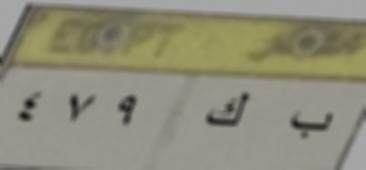4: (13, 90, 46, 129)
7: (64, 89, 99, 130)
9: (110, 86, 140, 132)
baa: (280, 101, 336, 150)
kaaf: (201, 88, 251, 136)
